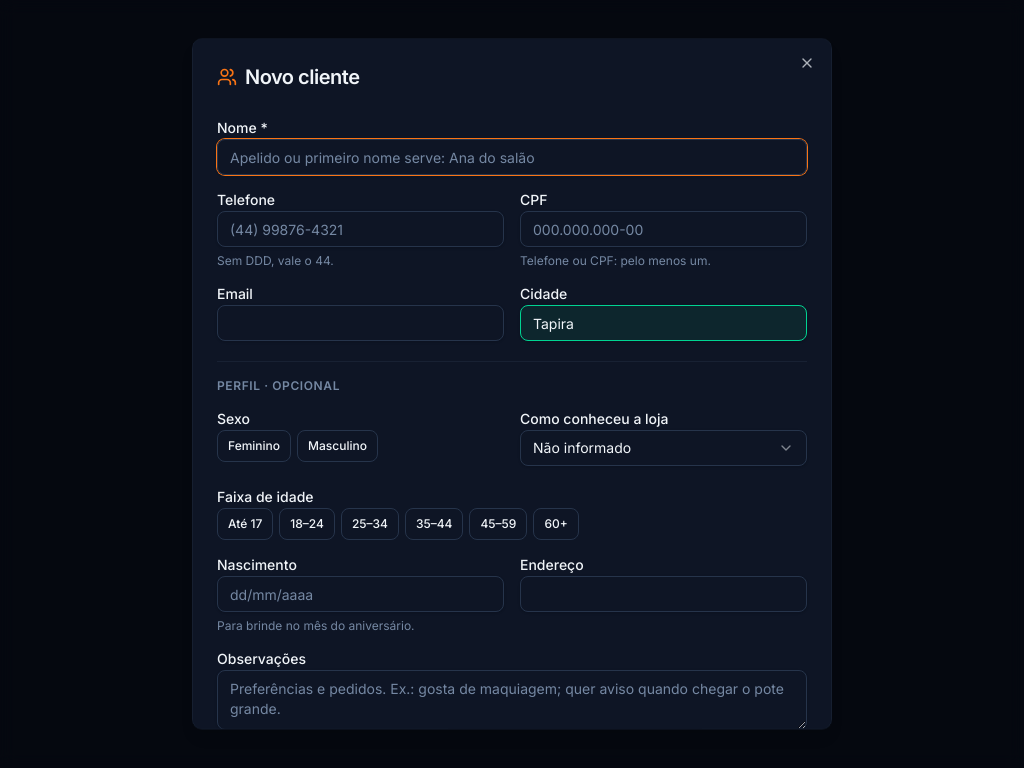
Test: CustomerEditorModal › mostra o DDD aplicado ao sair do telefone e marca o campo como preenchido
Type "99876-4321" into the field named "Telefone" at (360, 229), box top-left (217, 211), bottom-right (504, 247)
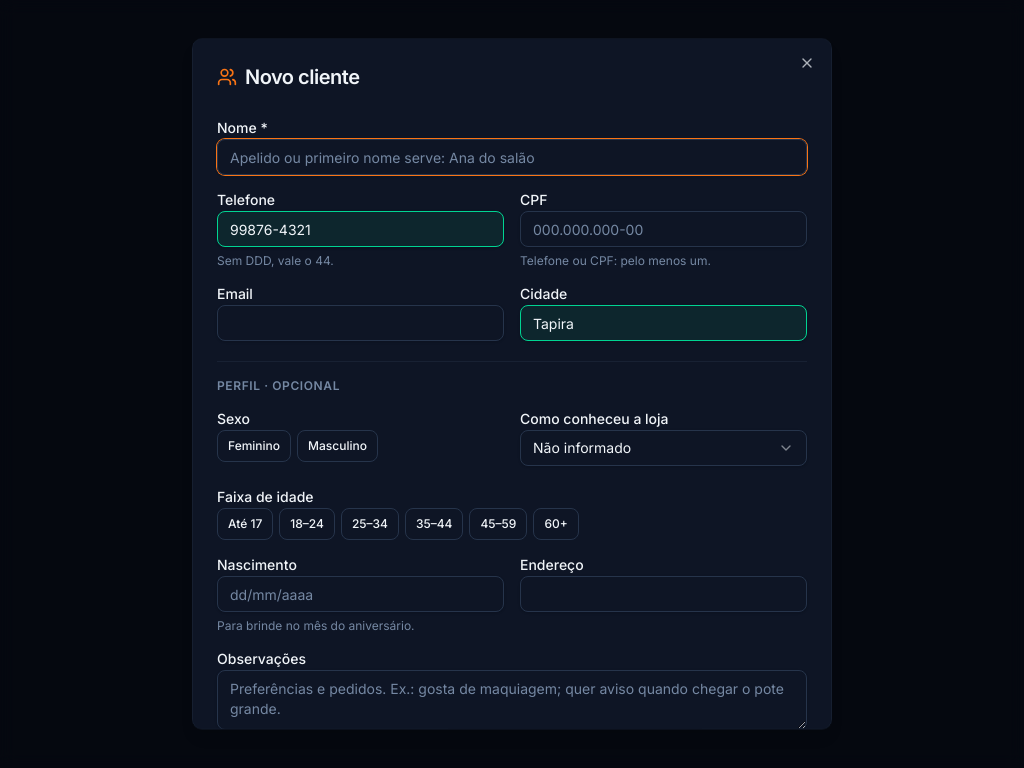
Leave the field named "Telefone", box top-left (217, 211), bottom-right (504, 247)
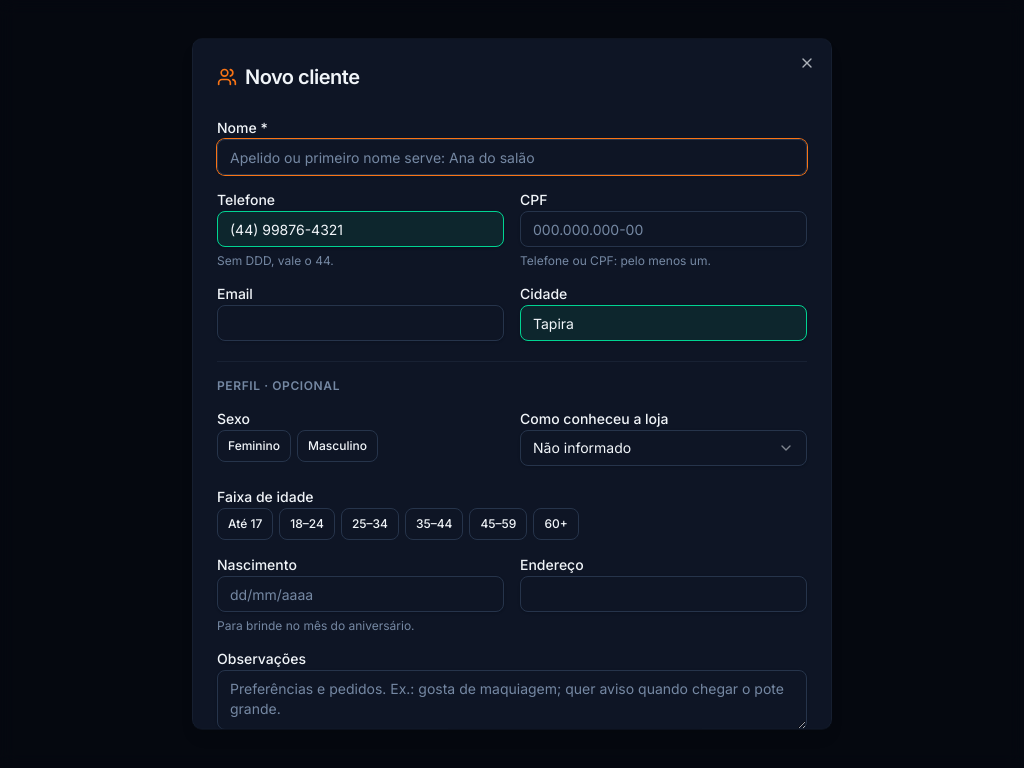
expect the field named "Telefone" holds "(44) 99876-4321": met, box top-left (217, 211), bottom-right (504, 247)
